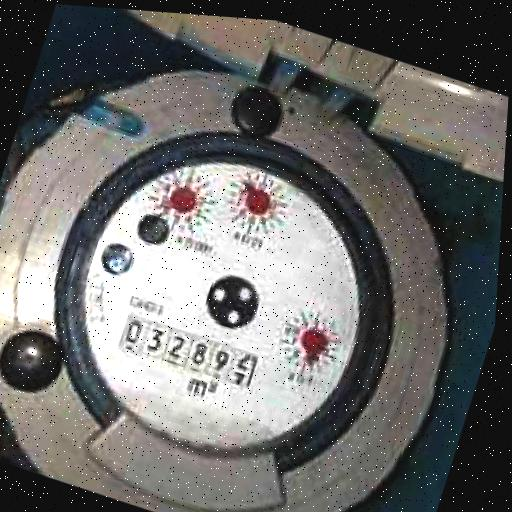0: (121, 317, 150, 353)
2: (226, 351, 257, 389), (164, 332, 195, 369)
3: (141, 323, 172, 361)
8: (186, 341, 214, 376)
9: (206, 346, 236, 382)
border_water_meter_number: (114, 311, 265, 396)
